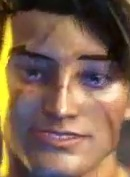kevin: (2, 14, 125, 176)
